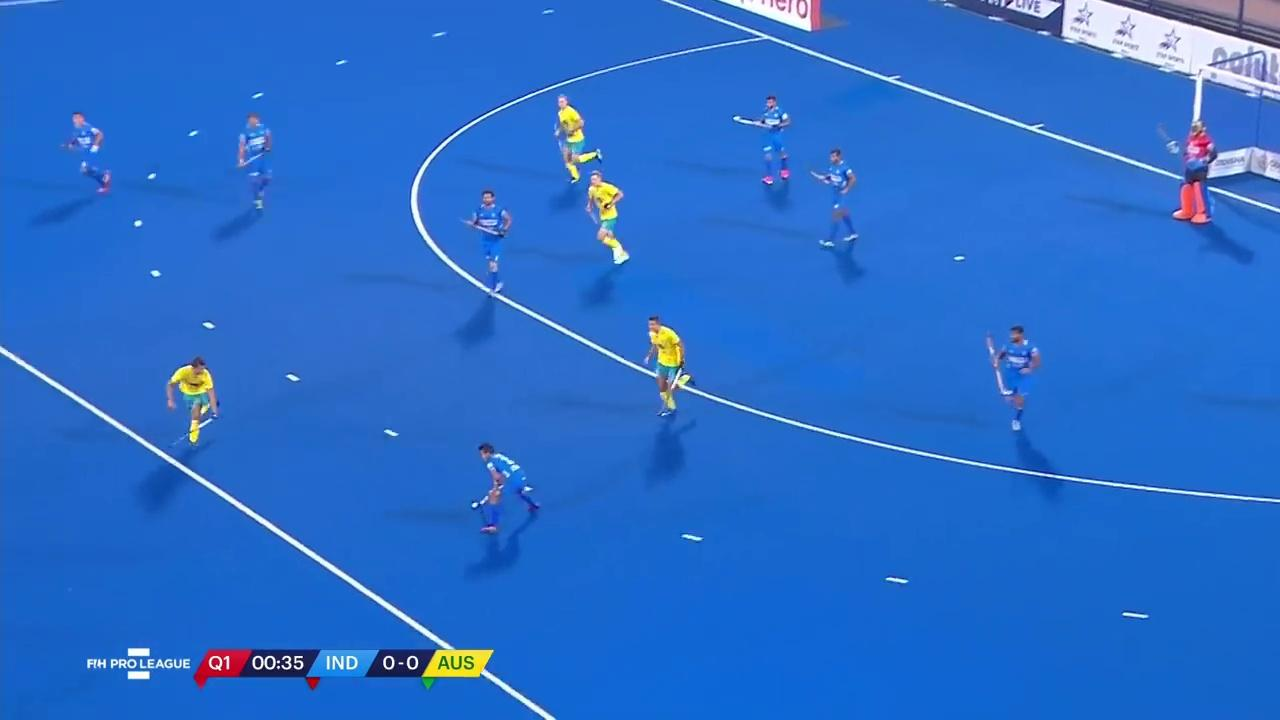ball: (466, 497, 482, 514)
